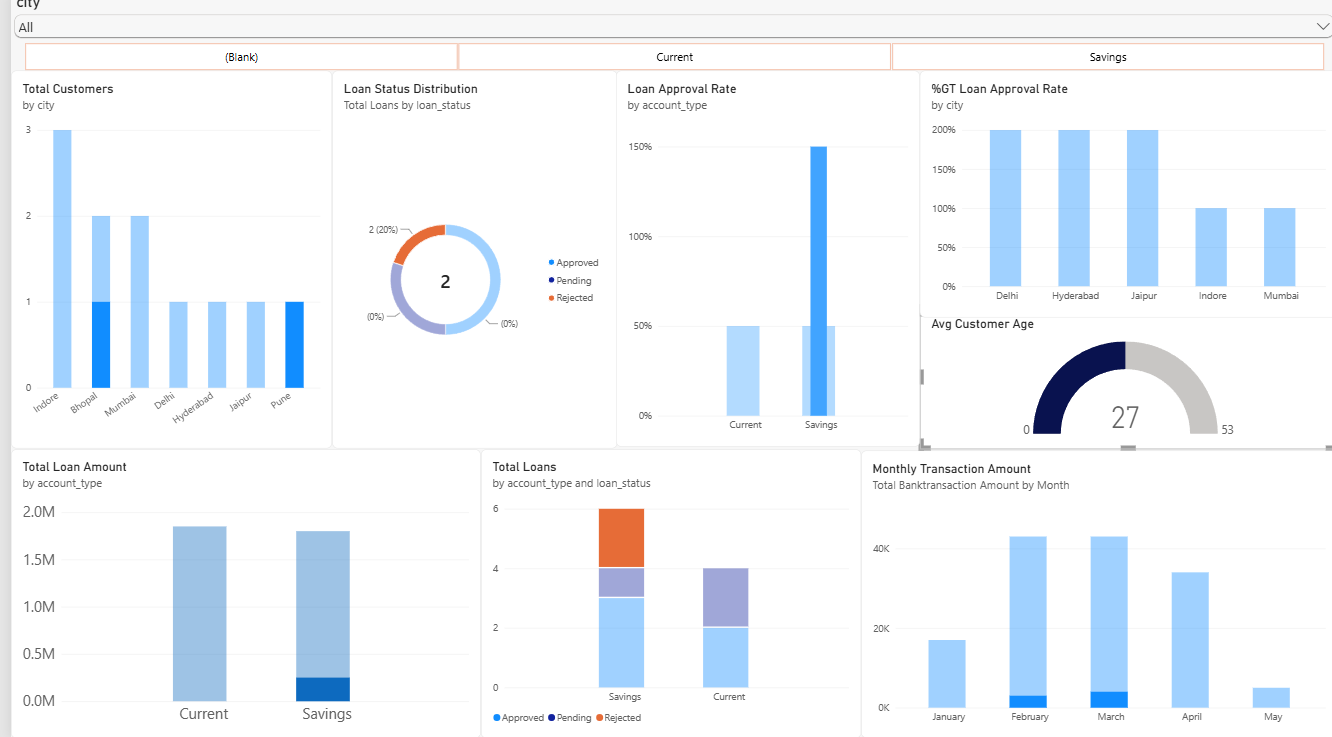

What the dashboard file says about the page in this screenshot:
{"tool":"powerbi","page":{"name":"Page 2","canvas":[1920,1080],"ordinal":1},"visuals":[{"type":"columnChart","fields":{"Category":["Customers.city"],"Y":["Customers.Total Customers"]},"box":[0,112.5,465,547.5],"z":0},{"type":"donutChart","title":"Loan Status Distribution","fields":{"Category":["Loans.loan_status"],"Y":["Loans.Total Loans"]},"box":[465,112.5,412.5,547.5],"z":1000},{"type":"columnChart","fields":{"Category":["Accounts.account_type"],"Y":["Loans.Total Loan Amount"]},"box":[0,660,680,420],"z":2000},{"type":"lineStackedColumnComboChart","title":"Monthly Transaction Amount","fields":{"Category":["Banktransactions.transaction_date.Variation.Date Hierarchy.Month"],"Y":["Banktransactions.Total Banktransaction Amount"]},"box":[1230,662.5,690,417.5],"z":3000},{"type":"slicer","fields":{"Values":["Customers.city"]},"box":[0,0,1920,70],"z":4000},{"type":"columnChart","fields":{"Category":["Accounts.account_type"],"Series":["Loans.loan_status"],"Y":["Loans.Total Loans"]},"box":[680,660,550,420],"z":5000},{"type":"gauge","fields":{"Y":["Customers.Avg Customer Age"]},"box":[1315,452.5,605,207.5],"z":6000},{"type":"columnChart","fields":{"Category":["Customers.city"],"Y":["Loans.Loan Approval Rate"]},"box":[1315,112.5,605,357.5],"z":7000},{"type":"clusteredColumnChart","fields":{"Category":["Accounts.account_type"],"Y":["Loans.Loan Approval Rate"]},"box":[875,112.5,440,545],"z":8000},{"type":"slicer","fields":{"Values":["Accounts.account_type"]},"box":[0,70,1920,42.5],"z":9000}]}

Visuals, with their boxes in screenshot pixels (x1, y1, x2, y2), scaled from the page's 1920x1080 canvas onto the 1332x737 screenshot:
columnChart - Customers.city x Customers.Total Customers: region(0, 77, 323, 450)
"Loan Status Distribution" donutChart: region(323, 77, 609, 450)
columnChart - Accounts.account_type x Loans.Total Loan Amount: region(0, 450, 472, 736)
"Monthly Transaction Amount" lineStackedColumnComboChart: region(853, 452, 1331, 736)
slicer - Customers.city: region(0, 0, 1331, 48)
columnChart - Accounts.account_type x Loans.loan_status: region(472, 450, 853, 736)
gauge - Customers.Avg Customer Age: region(912, 309, 1331, 450)
columnChart - Customers.city x Loans.Loan Approval Rate: region(912, 77, 1331, 321)
clusteredColumnChart - Accounts.account_type x Loans.Loan Approval Rate: region(607, 77, 912, 449)
slicer - Accounts.account_type: region(0, 48, 1331, 77)
